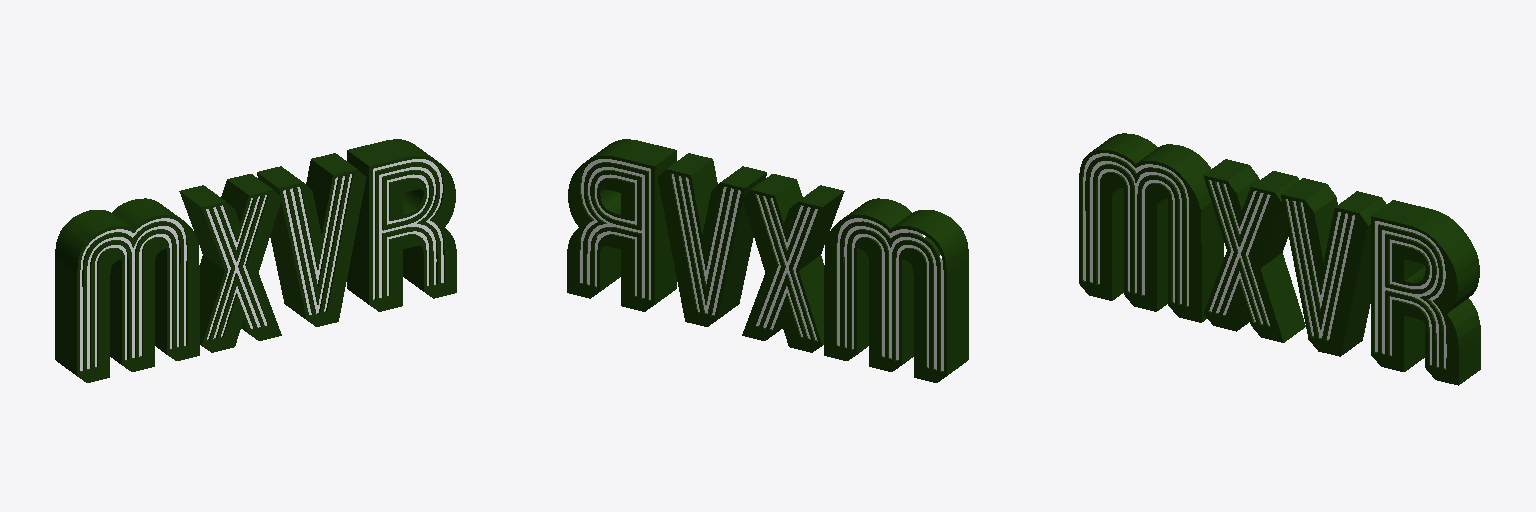
Rendered from mxvr.obj.
The picture shows the model from 3 angles: view 1: azimuth 30°, elevation 25°; view 2: azimuth 150°, elevation 25°; view 3: azimuth 330°, elevation 25°; orthographic projection.
Visible parts, largest first — view 1: mxvrLogo, mxvrLogoInside; view 2: mxvrLogo, mxvrLogoInside; view 3: mxvrLogo, mxvrLogoInside.
Part boxes in pixels (x1,y1,x2,y2): mxvrLogo: (55, 139, 456, 382); mxvrLogoInside: (80, 159, 443, 370); mxvrLogo: (567, 139, 968, 382); mxvrLogoInside: (580, 159, 943, 370); mxvrLogo: (1079, 133, 1480, 385); mxvrLogoInside: (1083, 153, 1446, 368).
Bounding box in the file's own units: 9.15 × 3.47 × 0.9286.